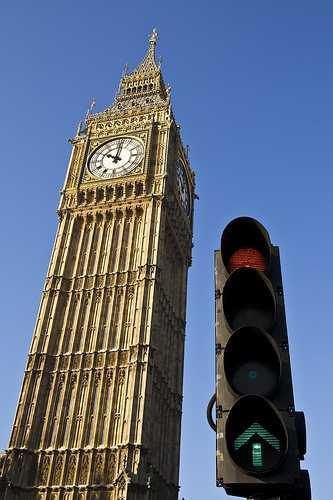green: (219, 398, 298, 482)
